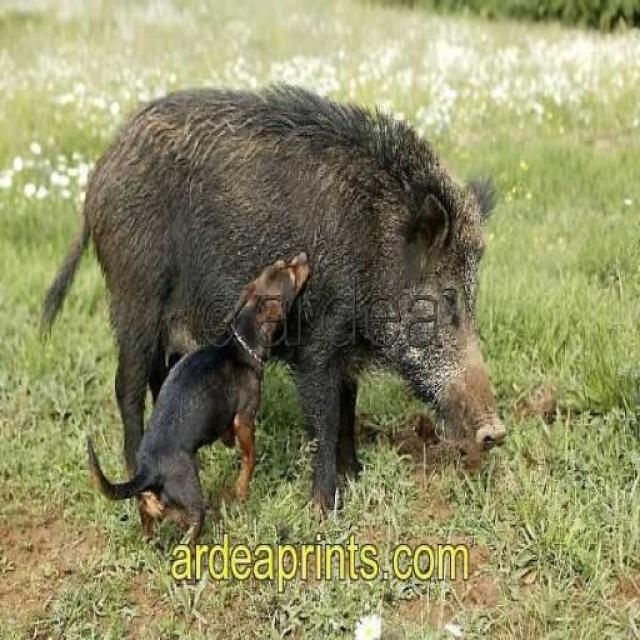pig: (69, 79, 546, 423), (138, 250, 379, 579)
